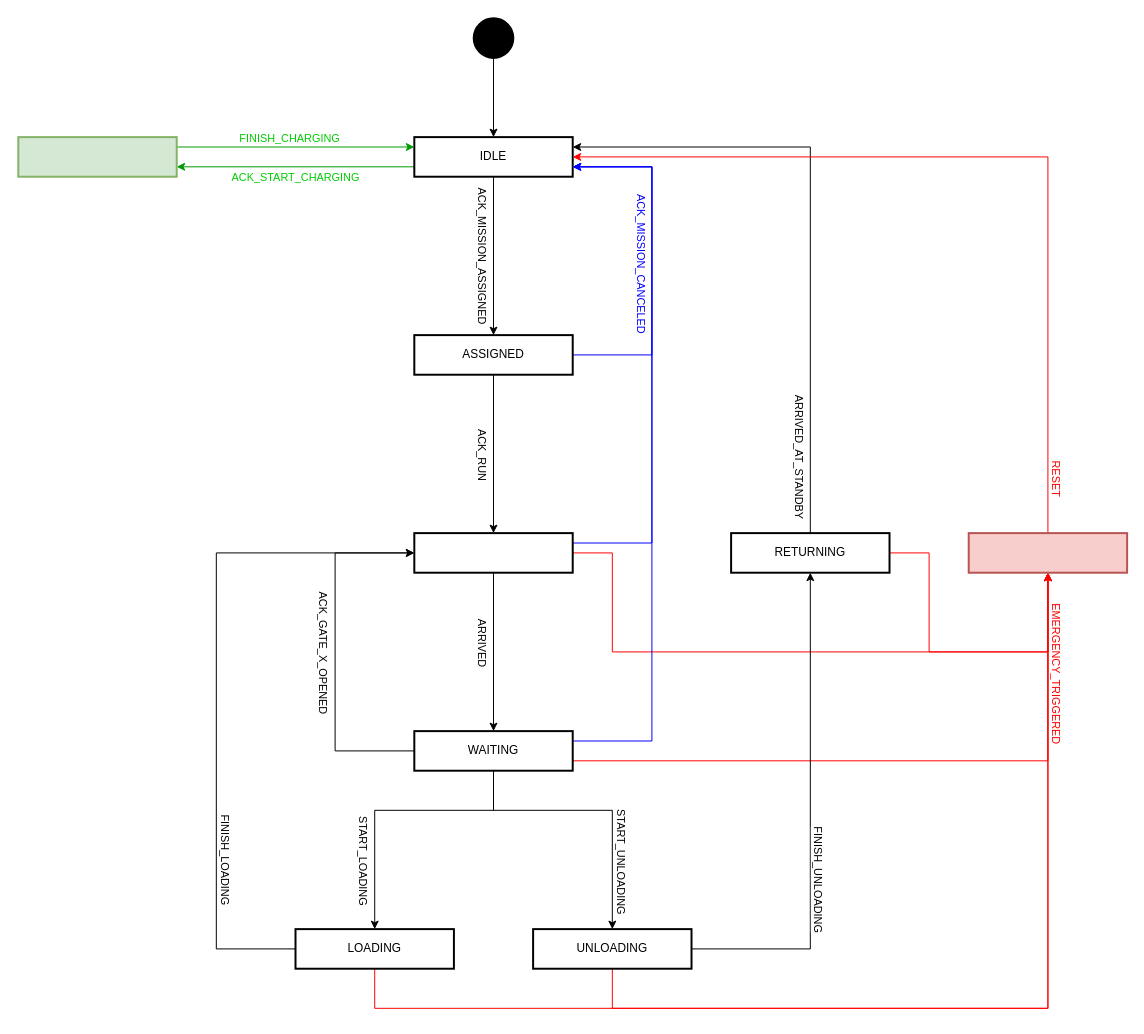
Image size: 1144x1034. Some labels were removed from this diagram. The shapes that lost their labels are listed below. From the top down, each one's centre as x and y in pixels, then its label:
At [97,156]: "START_CHARGING".
At [493,552]: "MOVING".
At [1047,552]: "EMERGENCY".
